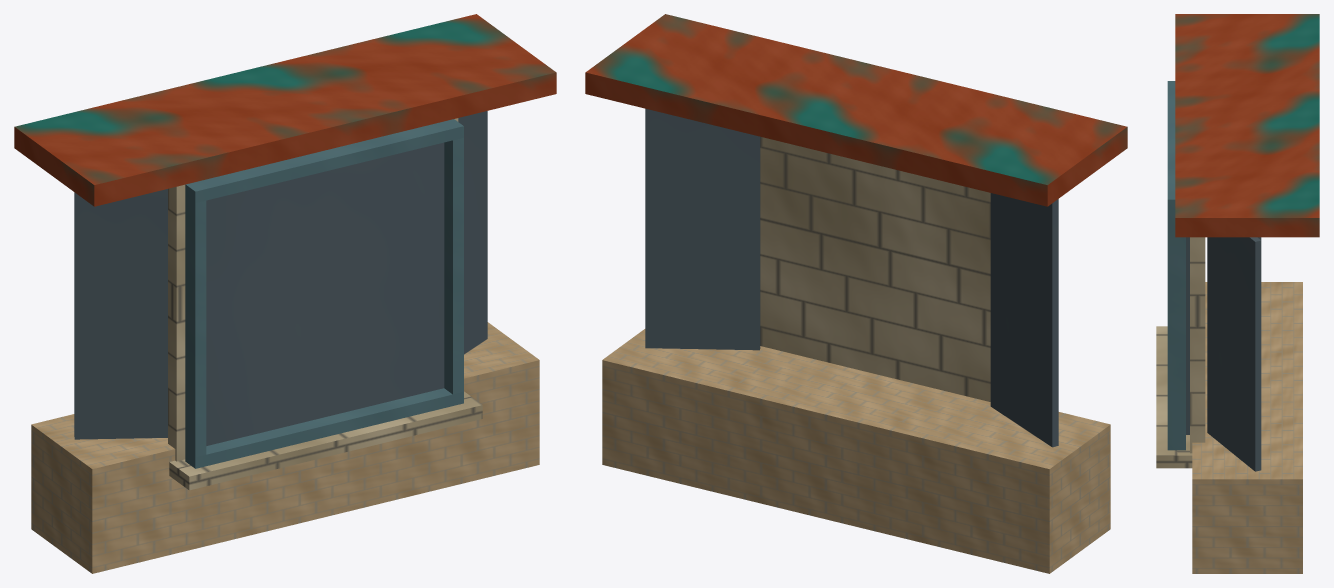
The model's file is window-bay-copper.lod1.gltf.
3 views of the same model, side by side, from view 1: azimuth 30°, elevation 25°; view 2: azimuth 150°, elevation 25°; view 3: azimuth 270°, elevation 25° (orthographic). The views are drawn at different scales.
Visible parts, largest first — view 1: window-bay-copper; view 2: window-bay-copper; view 3: window-bay-copper.
Boxes of the visible parts, x1=… form: window-bay-copper: x1=14, y1=14, x2=556, y2=573; window-bay-copper: x1=585, y1=14, x2=1127, y2=573; window-bay-copper: x1=1156, y1=14, x2=1319, y2=573.
Size of the model in its own units: 3.14 by 2.58 by 1.06.
5 materials, 5 textured.
